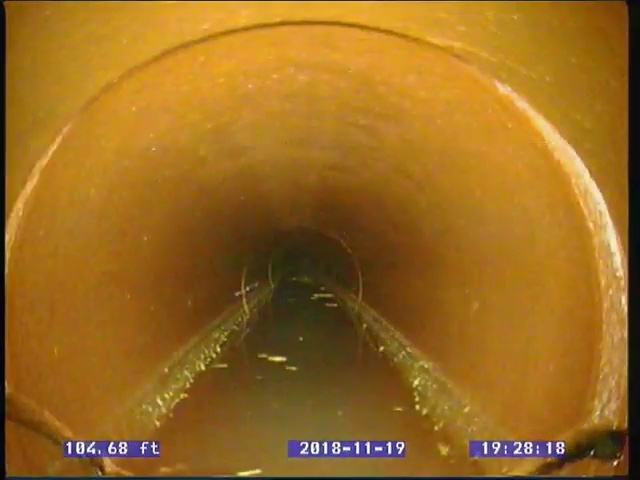crack: (5, 384, 138, 477), (525, 425, 629, 476)
